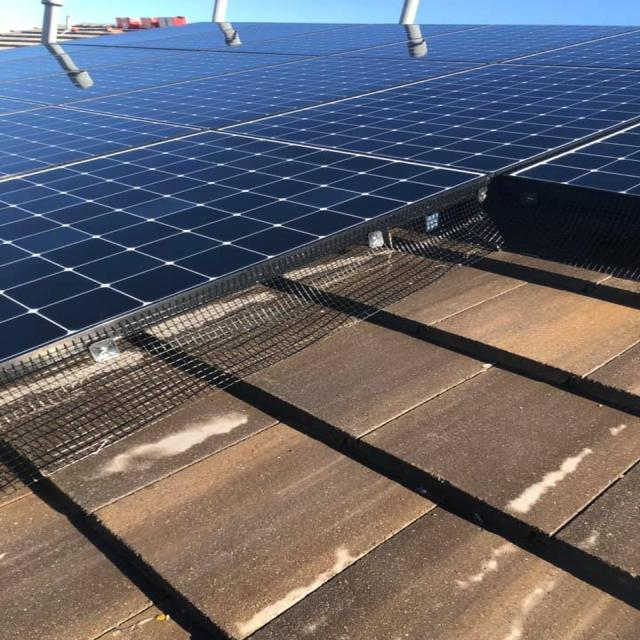clean-solar-panel: (2, 22, 638, 361)
